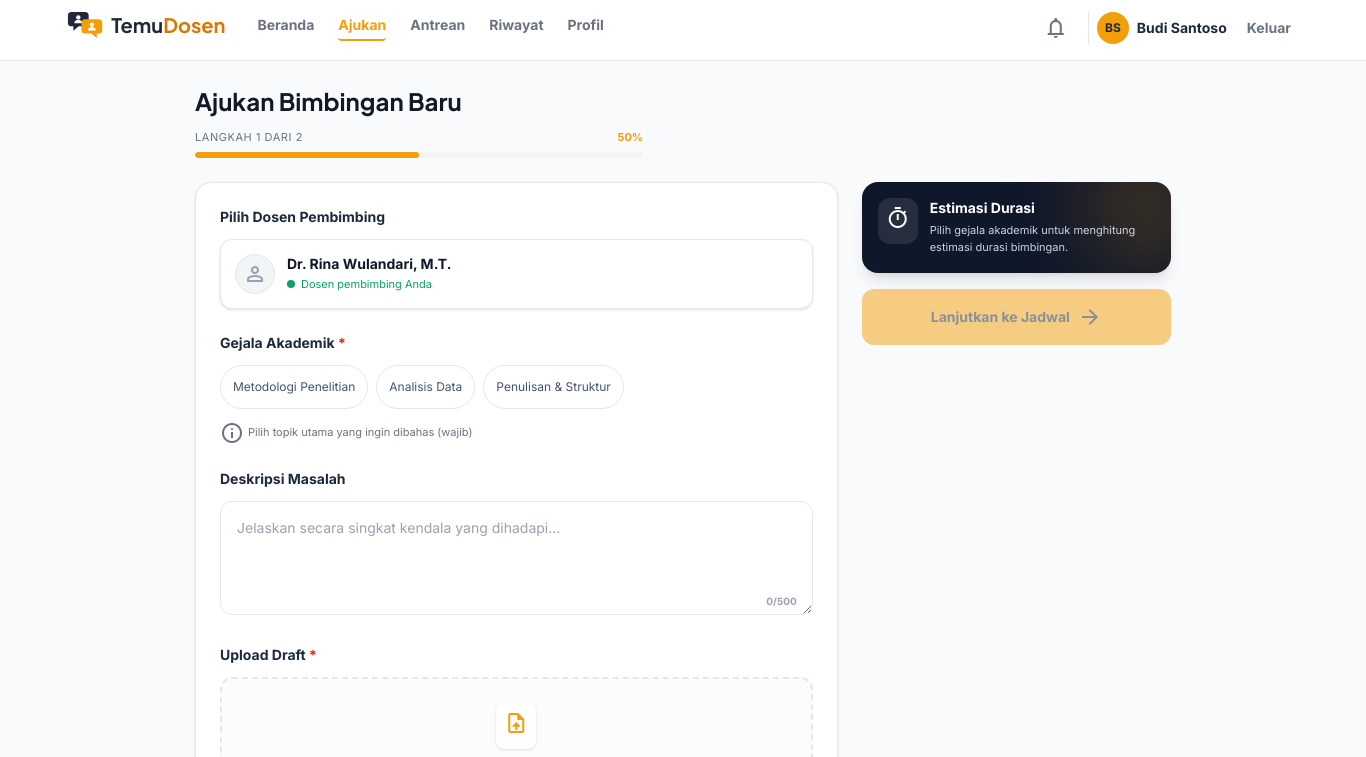
Test: SubmissionForm (S-07) › shows "Unggah file PDF draft sebelum melanjutkan." when submitting with no file
# Select a symptom chip but no file
Click the button "Metodologi Penelitian" at (294, 386), box [220,364,368,408]
(page scrolled)
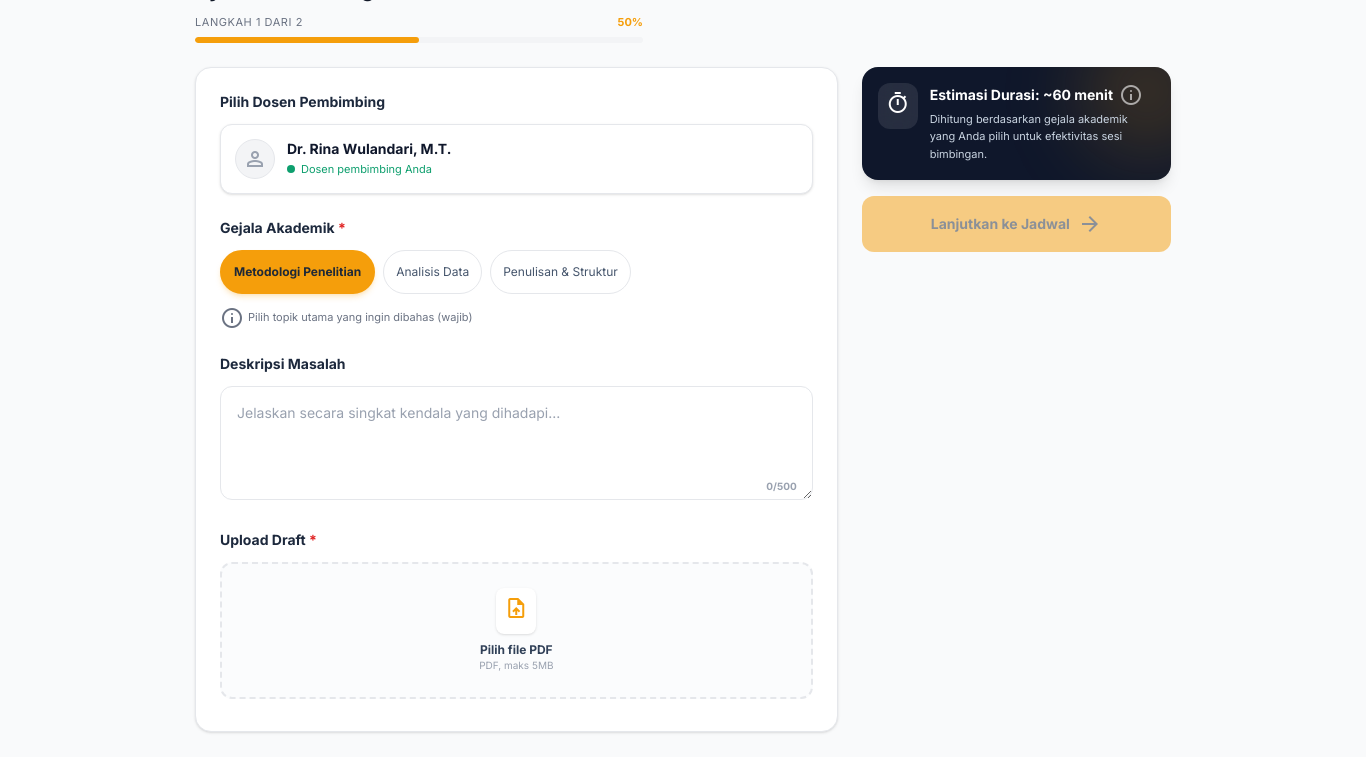
Submit the form with id "submissionForm", box [195,66,838,732]
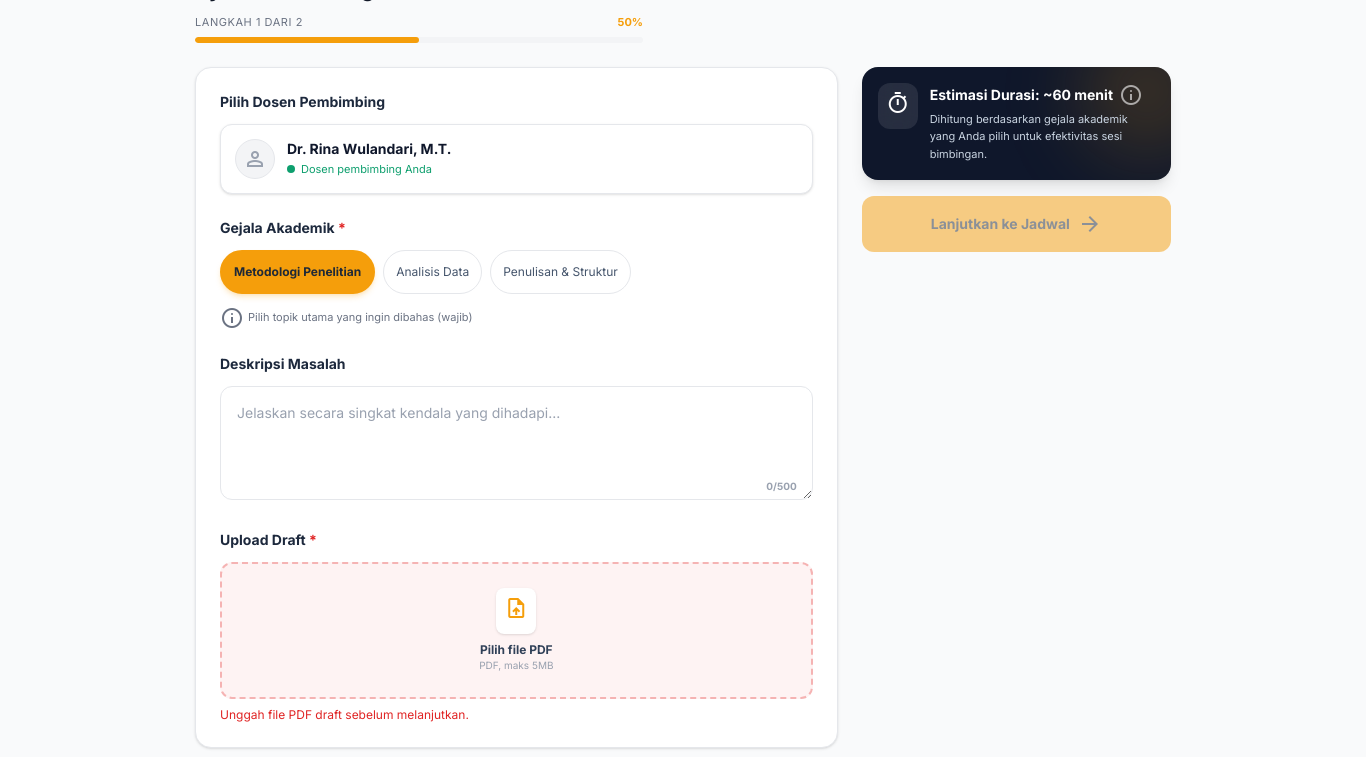
Expected: the text "Unggah file PDF draft sebelum melanjutkan." is shown, [220,706,469,722]
